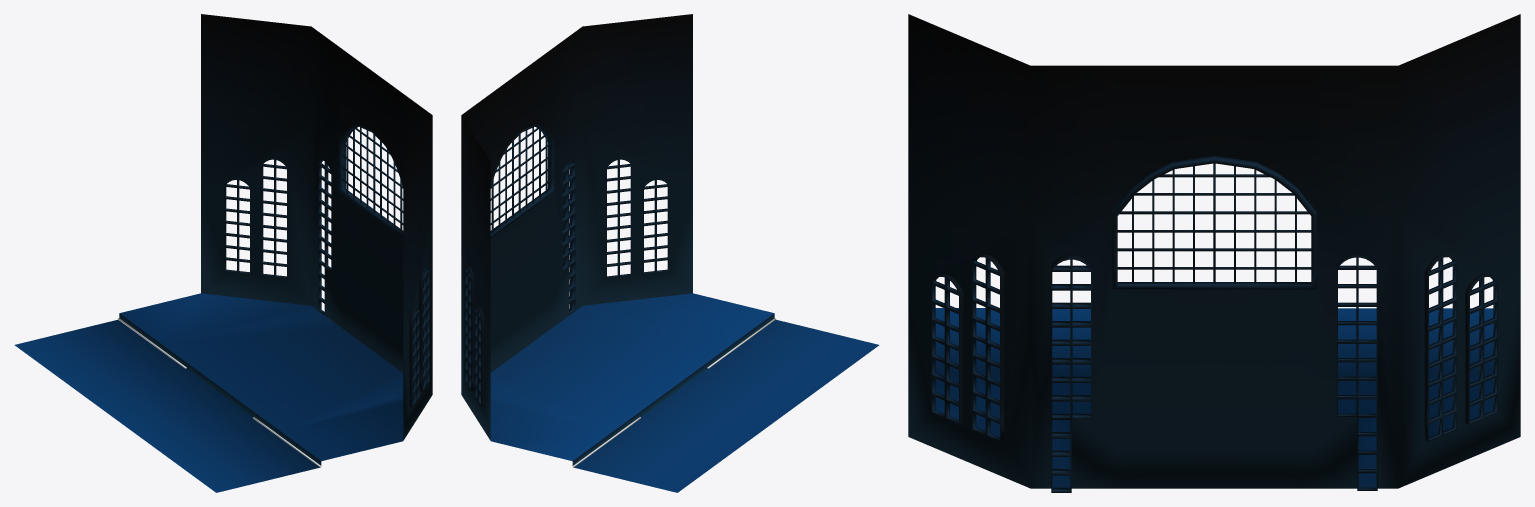
The model's file is MainBuilding.fbx.
The picture shows the model from 3 angles, left to right: view 1: azimuth 30°, elevation 25°; view 2: azimuth 150°, elevation 25°; view 3: azimuth 270°, elevation 25°; orthographic projection. The views are drawn at different scales.
Parts seen in each view (by area): view 1: Plane.023, Plane.029, Plane.033, Plane.034, Plane.032; view 2: Plane.023, Plane.029, Plane.033, Plane.034, Plane.032; view 3: Plane.023, Plane.029, Plane.033, Plane.032, Plane.034.
Boxes of the visible parts, x1,y1,x2,y2 form: Plane.023: (14,14,432,492); Plane.029: (338,124,403,237); Plane.033: (261,159,429,391); Plane.034: (224,179,419,406); Plane.032: (318,160,331,315); Plane.023: (461,14,879,492); Plane.029: (490,124,554,238); Plane.033: (464,159,632,391); Plane.034: (474,179,669,406); Plane.032: (562,160,575,315); Plane.023: (908,14,1520,488); Plane.029: (1112,155,1316,289); Plane.033: (972,254,1456,441); Plane.032: (1051,254,1377,492); Plane.034: (931,274,1497,424).
Size of the model in its own units: 2250 by 2336 by 3000.
